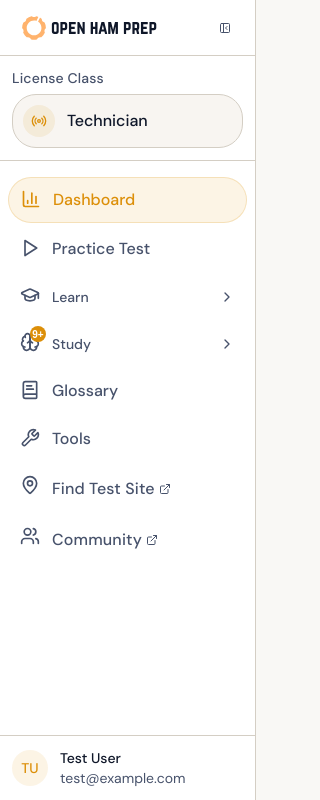
Test: DashboardSidebar › Navigation Items › shows 9+ for counts above 9
# Expand Study menu first
Click the text "Study" at (72, 344), box [52,334,91,352]
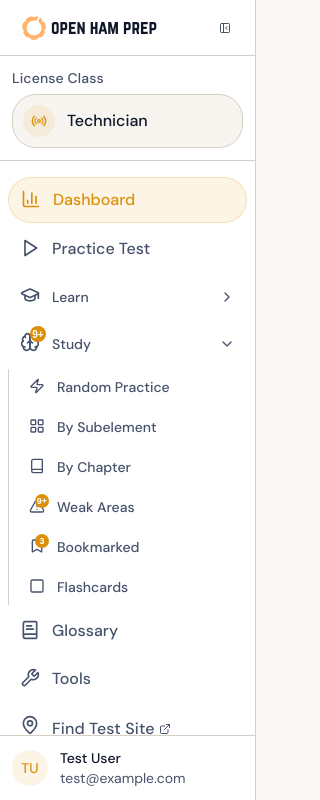
Expected: the 1st text "9+" is shown, [30,326,46,342]
Expected: the text "Weak Areas" is shown, [57,497,135,517]
